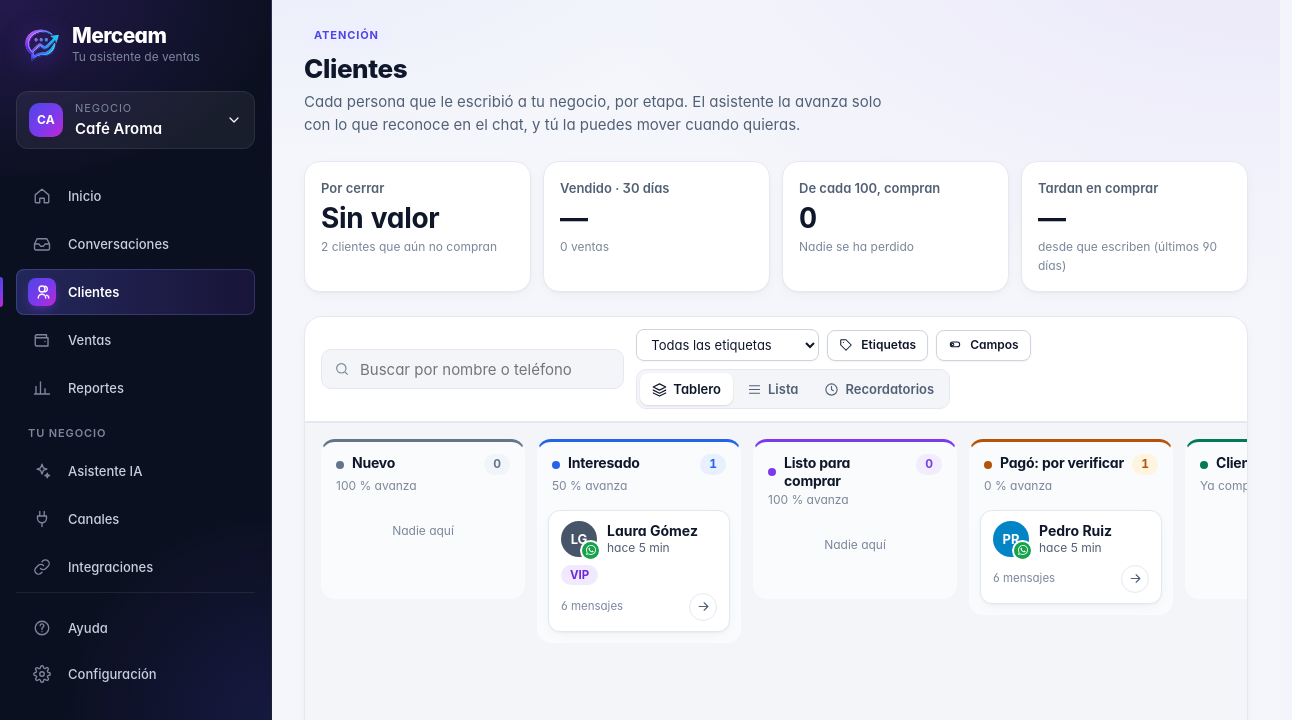
Test: Las etiquetas de los clientes › salen en la tarjeta y el tablero se filtra por una
expect the heading "Clientes" is shown: met, box left=304, top=53, right=910, bottom=84
expect the element named "Etiquetas: VIP" reads "VIP": met, box left=570, top=568, right=589, bottom=582
Select "VIP (1)" in the dropdown named "Filtrar por etiqueta" at (728, 345), box left=636, top=329, right=819, bottom=361
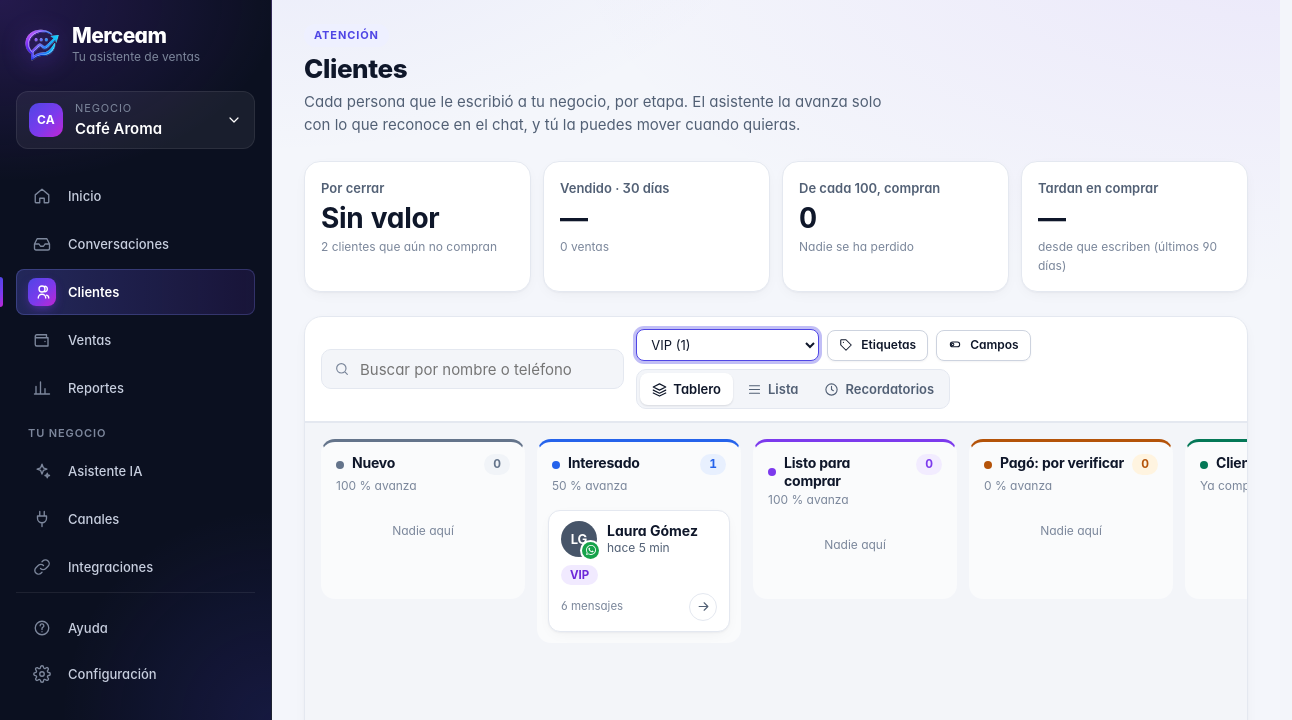
expect the element "Laura Gómez" is shown: met, box left=548, top=510, right=730, bottom=632
expect the button "Pedro Ruiz" is gone: met
Click the button "Lista" at (773, 389), box left=735, top=373, right=810, bottom=405
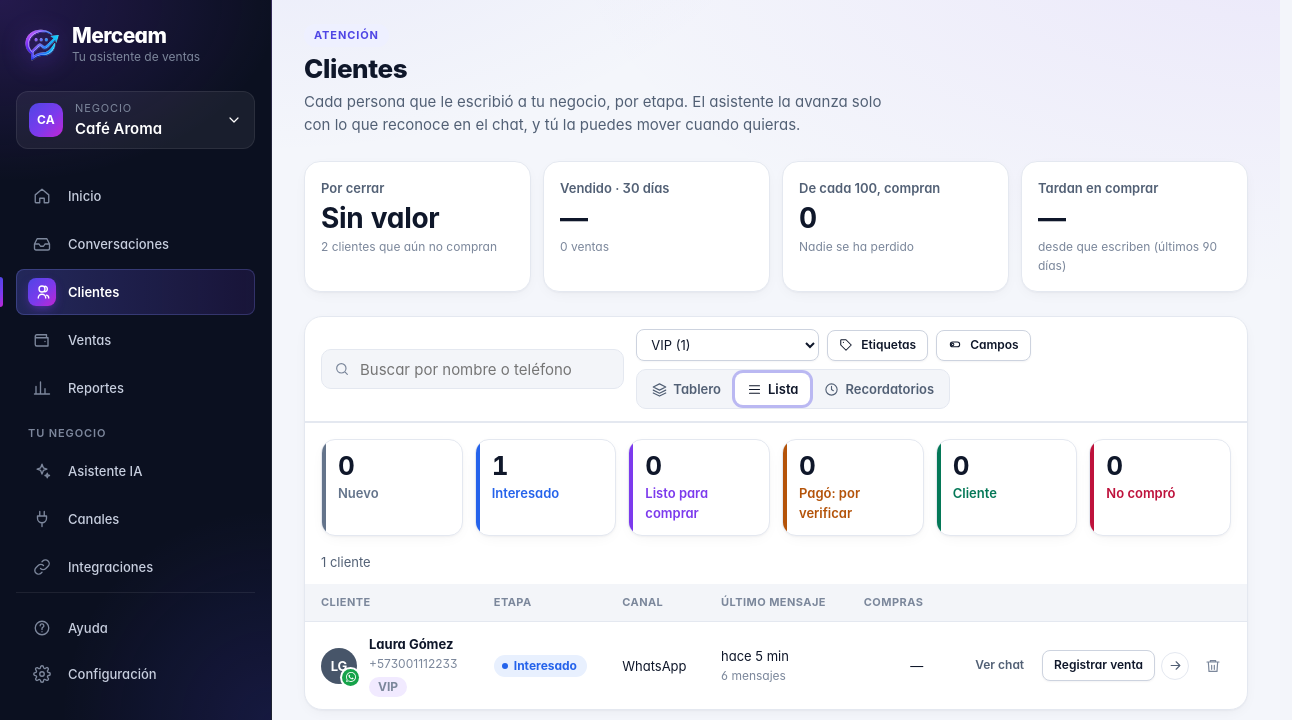
expect the number of rows is 2: met, box left=305, top=584, right=1247, bottom=622; left=305, top=622, right=1247, bottom=709
